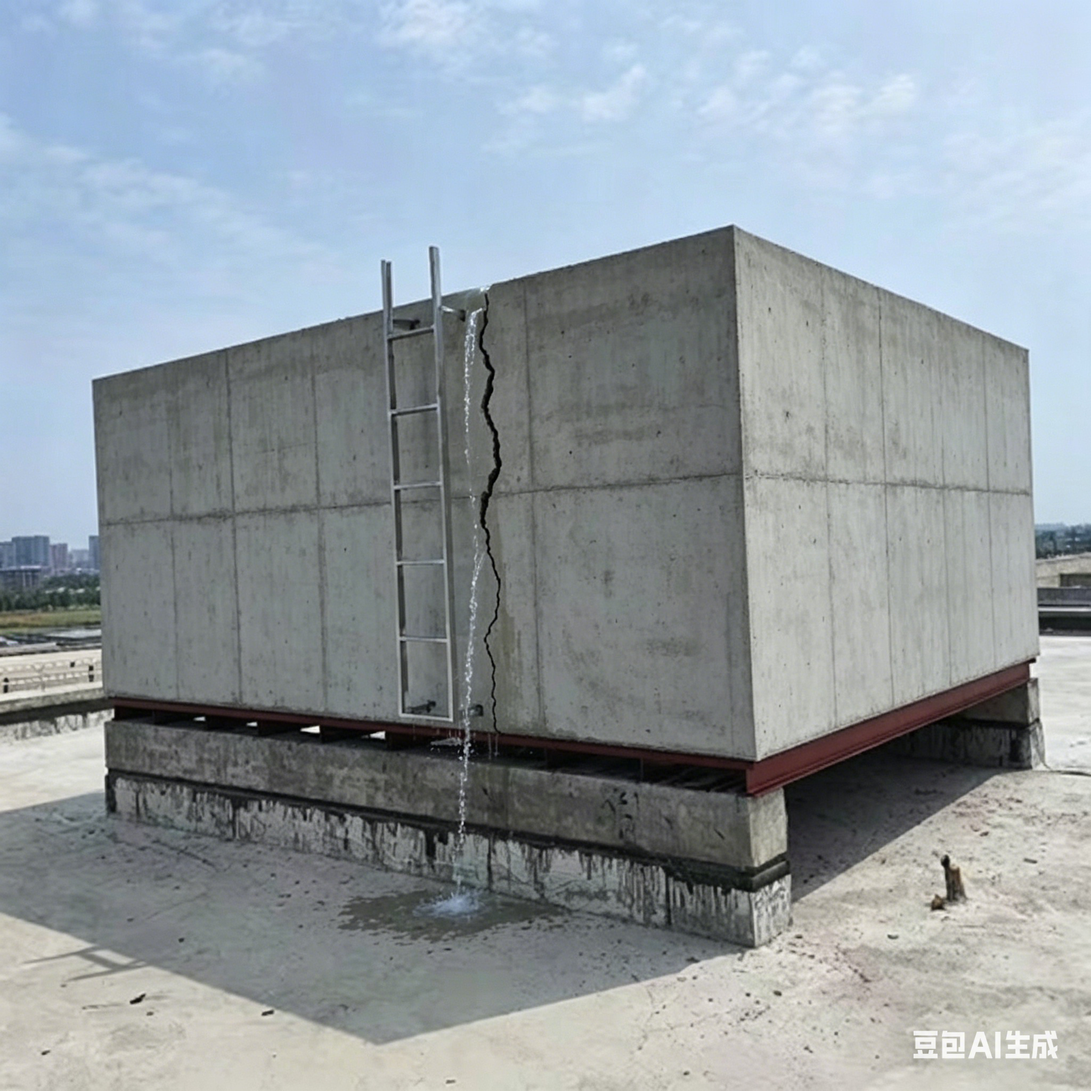Leakage: (453, 305, 499, 935), (335, 892, 455, 935)
